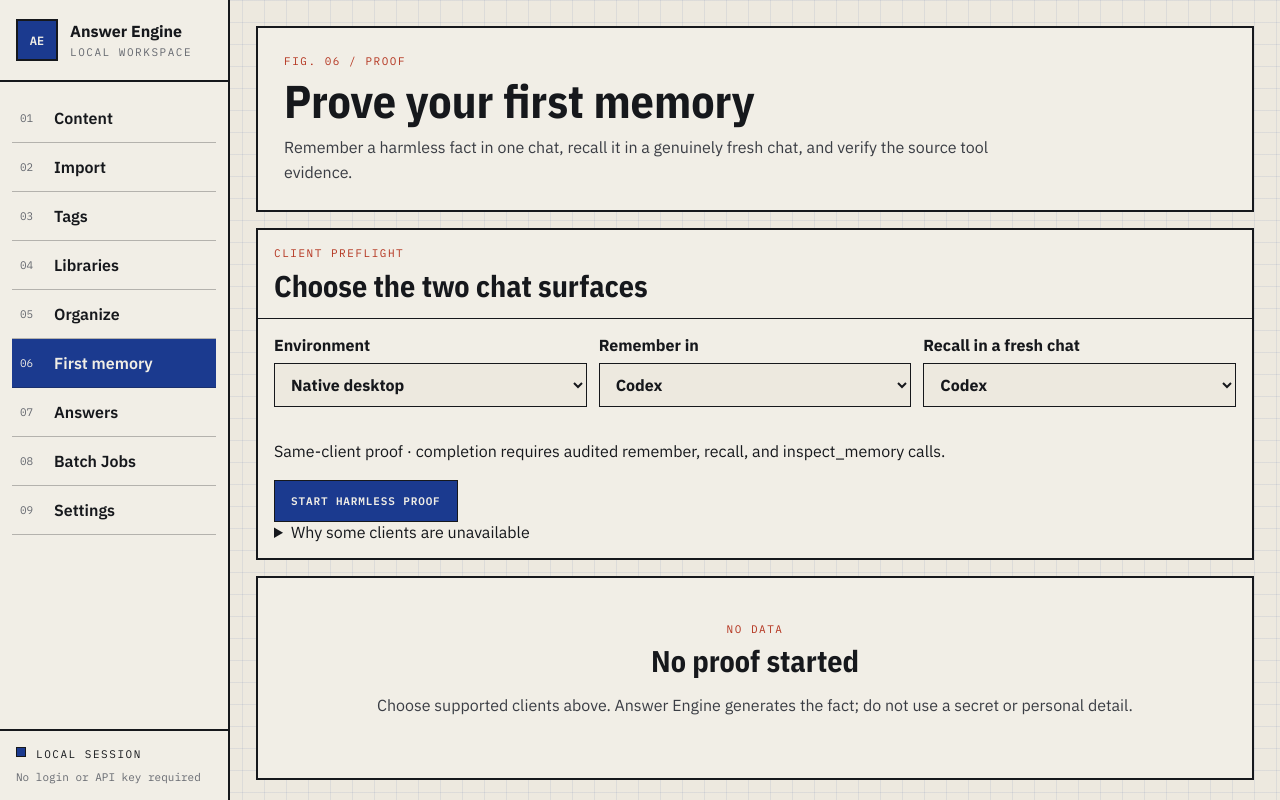
Test: primary local workflows › proves a first memory only after fresh-chat recall and source evidence
Select "Claude Code" in the dropdown labelled "Recall in a fresh chat": (1080, 385) 923,363 -> 1236,407
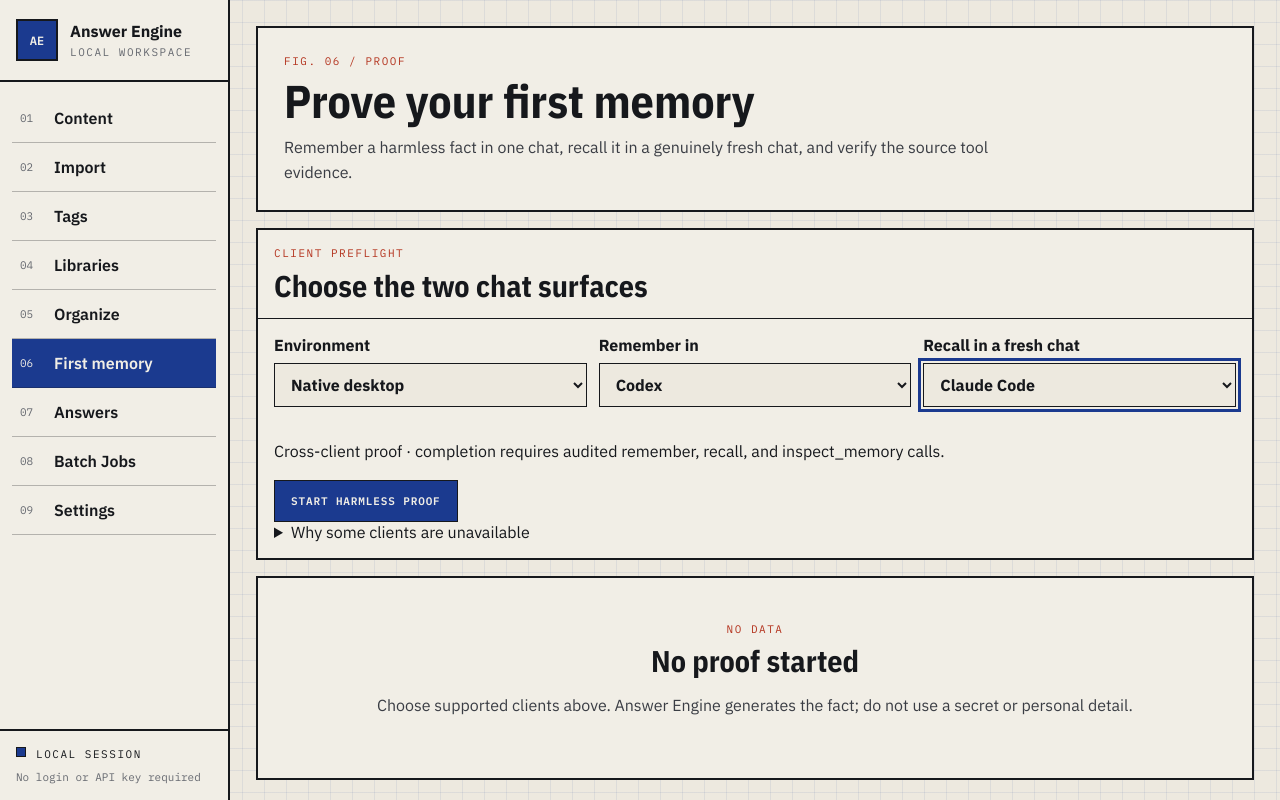
Click the button "Start harmless proof": (366, 501) 274,480 -> 458,522
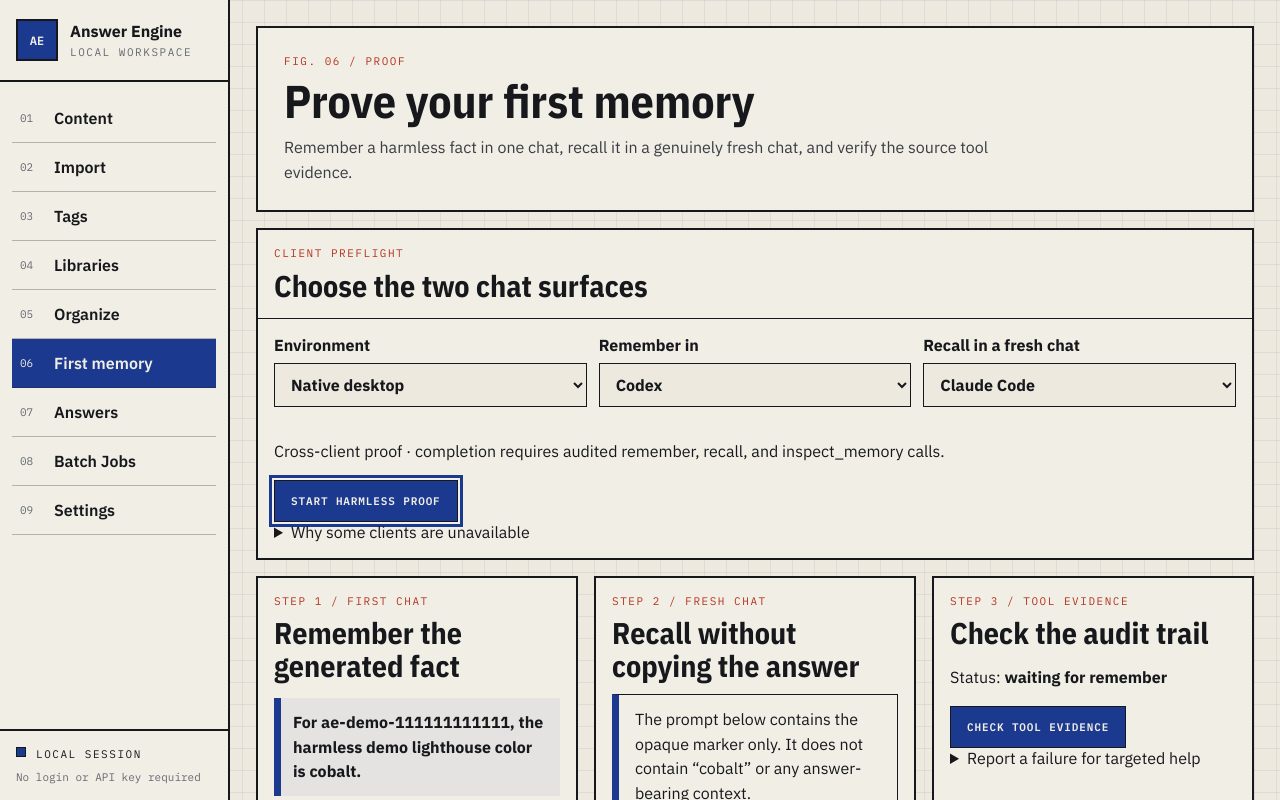
Click the button "Check tool evidence": (1038, 727) 950,706 -> 1126,748
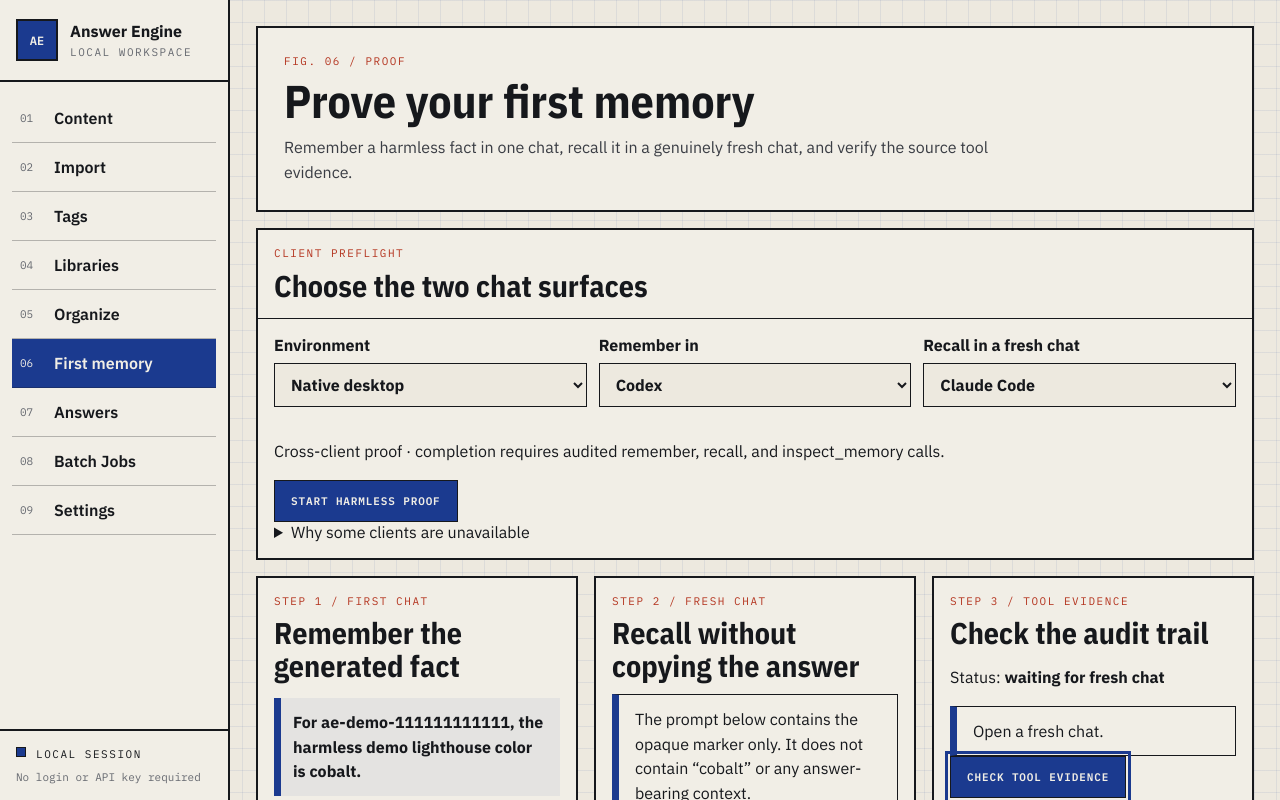
Now the text "waiting for fresh chat" is shown, box 1004,667 -> 1165,687
Click the button "Check tool evidence": (1038, 778) 950,756 -> 1126,798
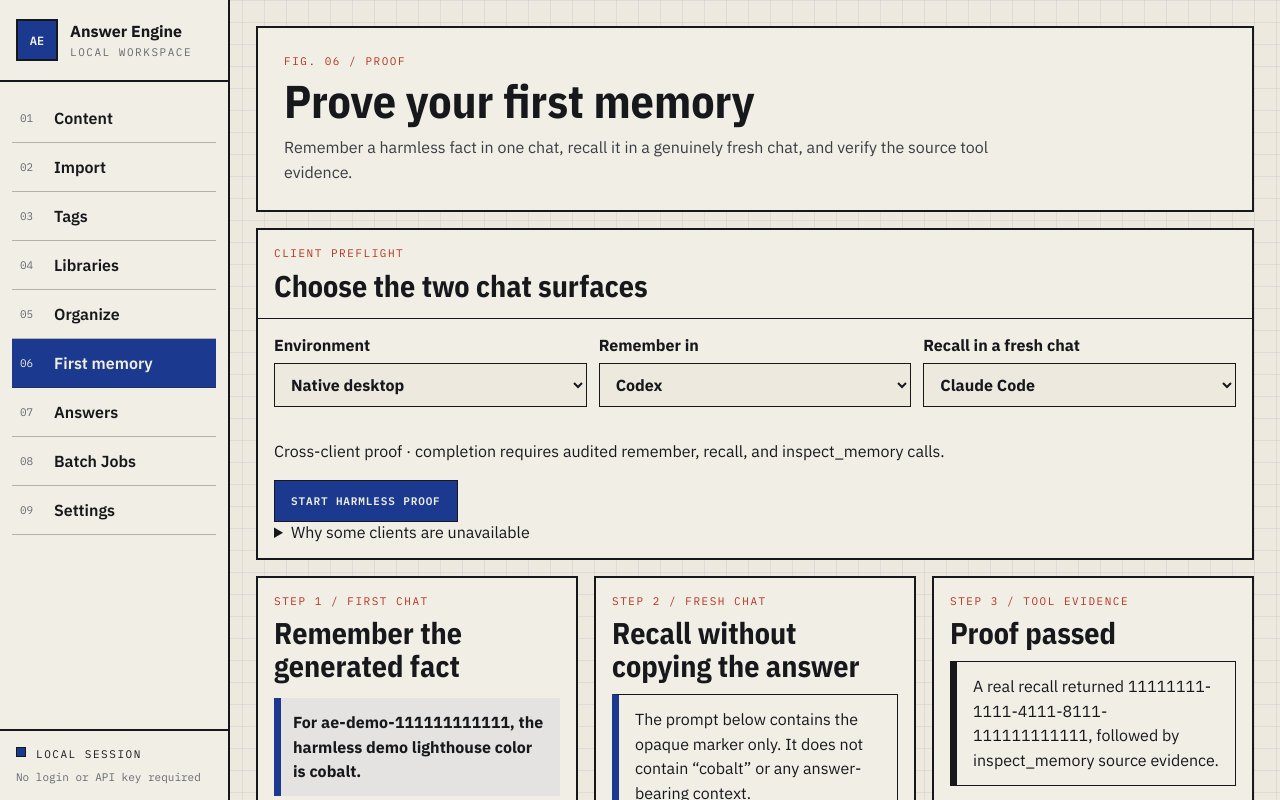
Now the text "A real recall returned" is shown, box 973,676 -> 1128,696
